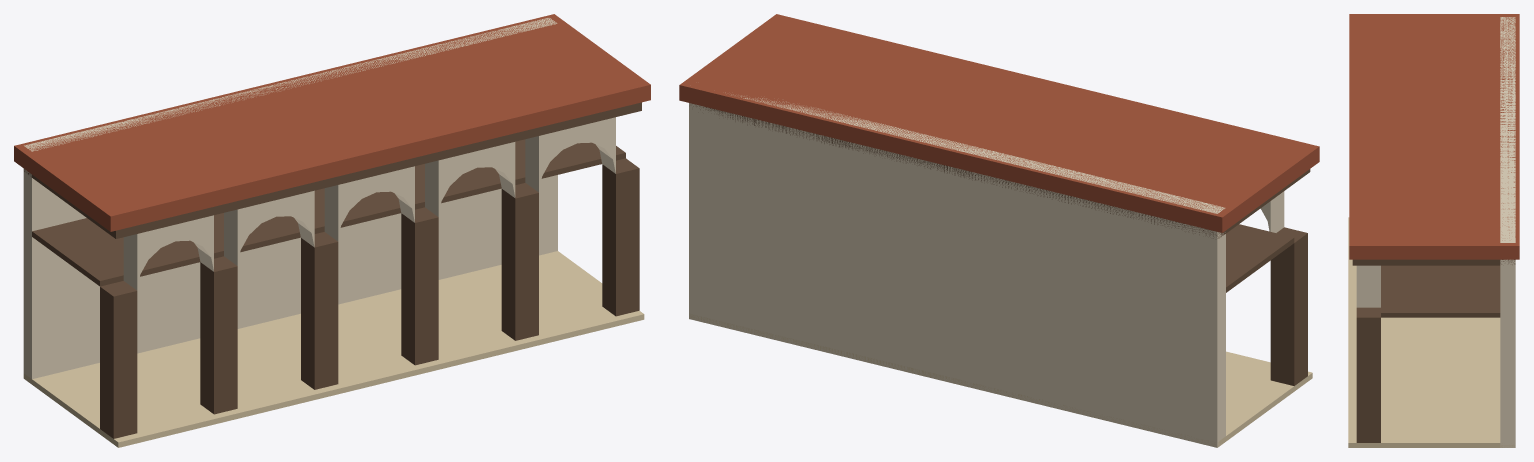
File: arcade.glb
The picture shows the model from 3 angles, left to right: view 1: azimuth 30°, elevation 25°; view 2: azimuth 150°, elevation 25°; view 3: azimuth 270°, elevation 25°; orthographic projection. The views are drawn at different scales.
Visible parts, largest first — view 1: SM_ENV_arcade; view 2: SM_ENV_arcade; view 3: SM_ENV_arcade.
Part boxes in pixels (<box>): SM_ENV_arcade: <box>14,14,650,447</box>; SM_ENV_arcade: <box>679,14,1319,447</box>; SM_ENV_arcade: <box>1348,14,1519,447</box>.
Size of the model in its own units: 16.44 by 6.77 by 5.12.
